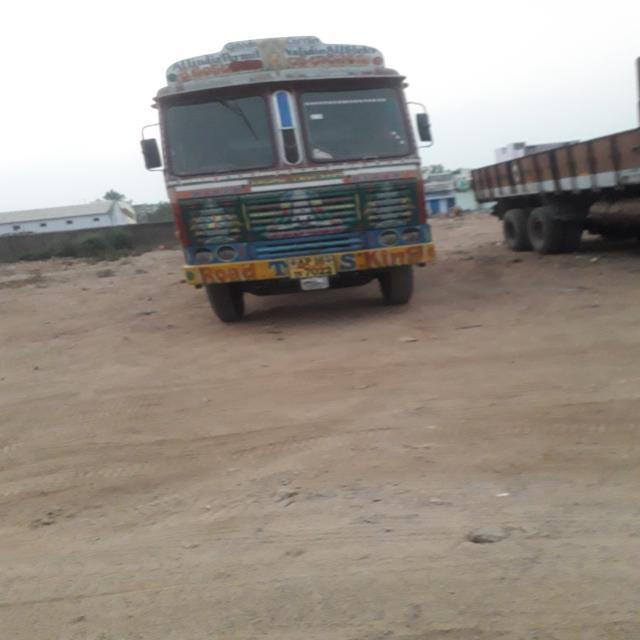truck_front: (132, 24, 447, 328), (461, 48, 640, 254)
